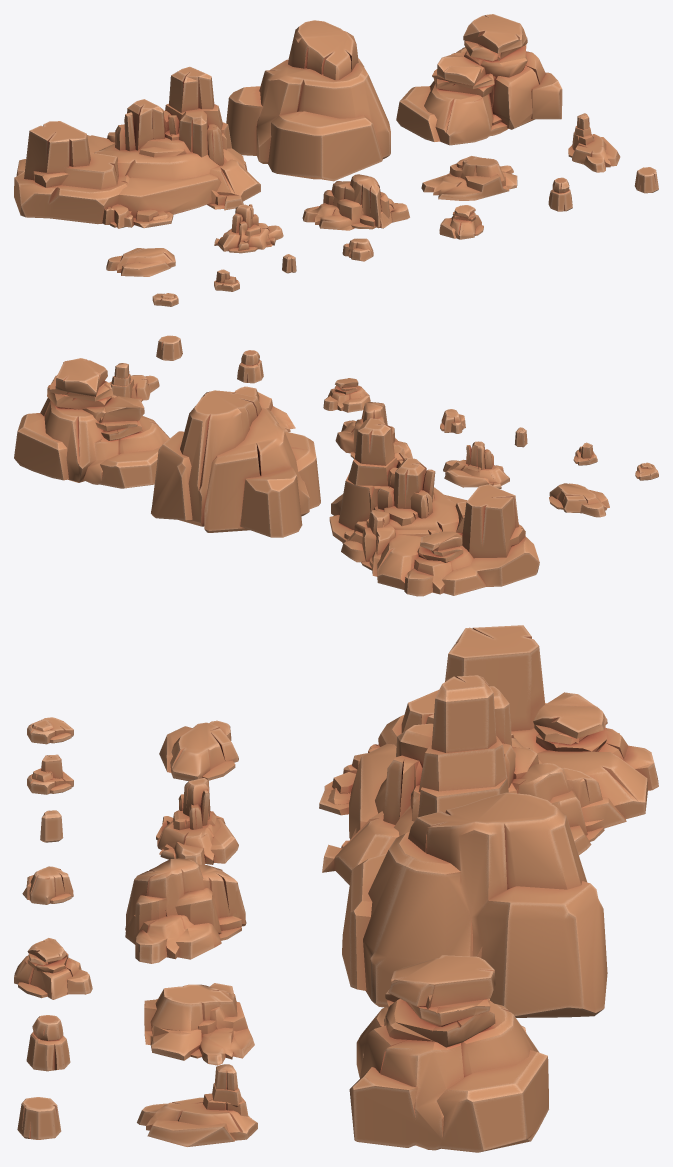
Rendered from DesertRocks_edit_for_FBX.fbx.
3 views of the same model, one above another, from view 1: azimuth 30°, elevation 25°; view 2: azimuth 150°, elevation 25°; view 3: azimuth 270°, elevation 25° (orthographic). The views are drawn at different scales.
Visible parts, largest first — view 1: Rock_1, Rock_2, Rock_3, Rock_6, Rock_7, Rock_5, Rock_8, Rock_4, Rock_13, Rock_14, Rock_12, Rock_15 (+1 smaller); view 2: Rock_1, Rock_2, Rock_3, Rock_5, Rock_4, Rock_6, Rock_8, Rock_13, Rock_14, Rock_7, Rock_15, Rock_12 (+1 smaller); view 3: Rock_2, Rock_1, Rock_3, Rock_6, Rock_7, Rock_8, Rock_5, Rock_4, Rock_13, Rock_14, Rock_15, Rock_12 (+2 smaller).
Boxes of the visible parts, left/top/right/bottom form: Rock_1: left=14, top=66, right=260, bottom=228; Rock_2: left=226, top=20, right=390, bottom=181; Rock_3: left=396, top=14, right=562, bottom=145; Rock_6: left=302, top=174, right=409, bottom=230; Rock_7: left=421, top=156, right=517, bottom=200; Rock_5: left=214, top=204, right=283, bottom=253; Rock_8: left=568, top=113, right=620, bottom=172; Rock_4: left=106, top=248, right=175, bottom=276; Rock_13: left=439, top=205, right=483, bottom=239; Rock_14: left=548, top=177, right=572, bottom=211; Rock_12: left=342, top=238, right=373, bottom=261; Rock_15: left=634, top=167, right=658, bottom=193; Rock_1: left=329, top=418, right=539, bottom=596; Rock_2: left=151, top=390, right=320, bottom=537; Rock_3: left=14, top=358, right=169, bottom=488; Rock_5: left=443, top=441, right=509, bottom=488; Rock_4: left=549, top=483, right=609, bottom=517; Rock_6: left=335, top=402, right=412, bottom=459; Rock_8: left=109, top=363, right=159, bottom=401; Rock_13: left=323, top=378, right=370, bottom=412; Rock_14: left=237, top=350, right=263, bottom=383; Rock_7: left=234, top=386, right=295, bottom=431; Rock_15: left=156, top=335, right=182, bottom=360; Rock_12: left=440, top=409, right=465, bottom=433; Rock_2: left=342, top=792, right=607, bottom=1017; Rock_1: left=319, top=625, right=658, bottom=884; Rock_3: left=349, top=955, right=548, bottom=1152; Rock_6: left=125, top=858, right=246, bottom=963; Rock_7: left=144, top=983, right=254, bottom=1065; Rock_8: left=137, top=1064, right=257, bottom=1146; Rock_5: left=156, top=778, right=238, bottom=864; Rock_4: left=159, top=720, right=238, bottom=781; Rock_13: left=14, top=938, right=92, bottom=999; Rock_14: left=26, top=1015, right=70, bottom=1071; Rock_15: left=17, top=1097, right=61, bottom=1139; Rock_12: left=22, top=866, right=73, bottom=904.
Bounding box in the file's own units: 6273 × 1284 × 4000.
